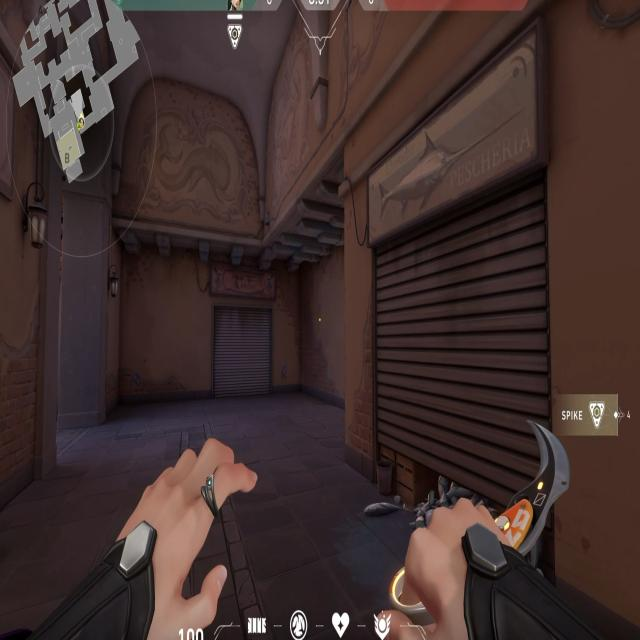B_Main_Corner: (332, 38, 612, 612)
